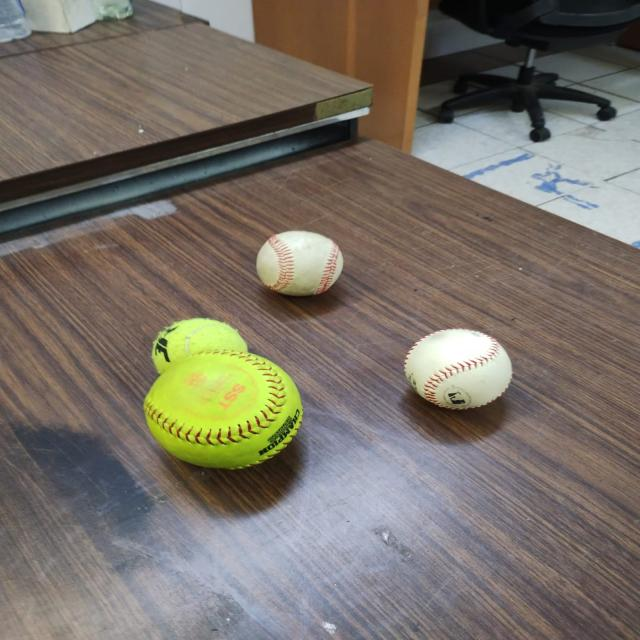beisbol ball: (399, 324, 515, 414), (252, 226, 348, 298)
softball ball: (142, 347, 303, 470)
tenis ball: (150, 317, 246, 372)
